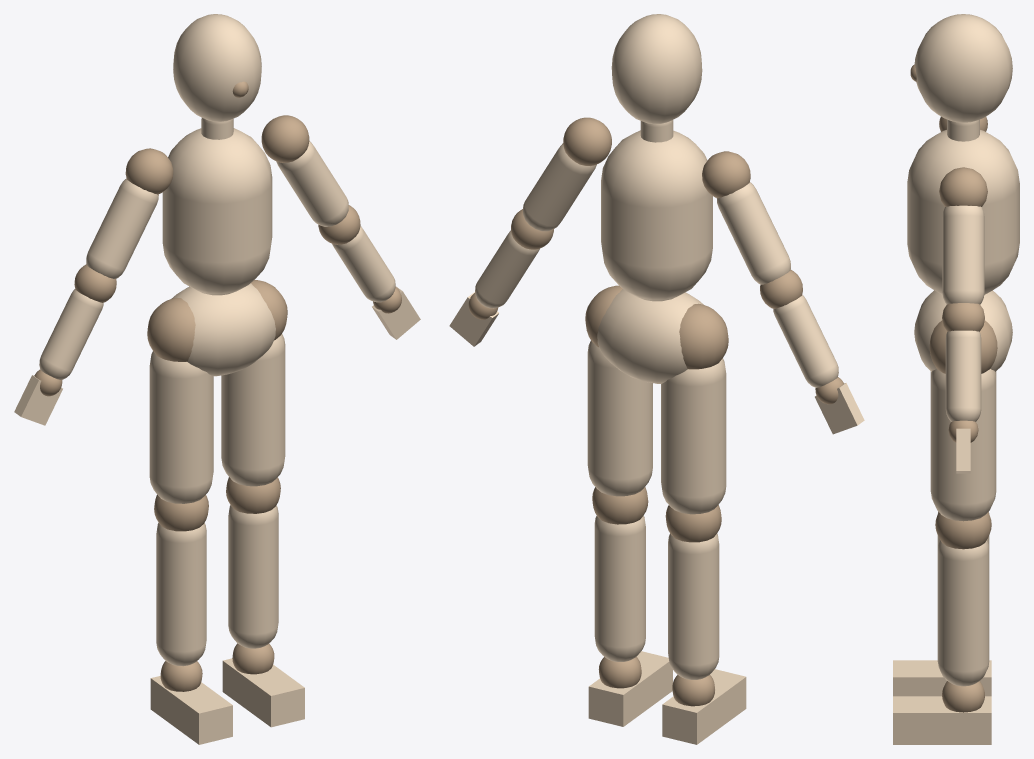
File: soldier_user.glb
The picture shows the model from 3 angles, left to right: view 1: azimuth 30°, elevation 25°; view 2: azimuth 150°, elevation 25°; view 3: azimuth 270°, elevation 25°; orthographic projection. The views are drawn at different scales.
Visible parts, largest first — view 1: ChestMesh, ThighMeshR, ThighMeshL, HeadMesh, CalfMeshL, CalfMeshR, PelvisMesh, UpperArmMeshR, FootMeshR, FootMeshL, UpperArmMeshL, ForearmMeshR (+13 smaller); view 2: ChestMesh, ThighMeshR, ThighMeshL, HeadMesh, CalfMeshL, CalfMeshR, PelvisMesh, UpperArmMeshR, FootMeshR, FootMeshL, UpperArmMeshL, ForearmMeshR (+13 smaller); view 3: ChestMesh, HeadMesh, CalfMeshL, ThighMeshL, FootMeshL, UpperArmMeshL, ForearmMeshL, PelvisMesh, FootMeshR, BallShoulderL, BallKneeL, BallHipL (+5 smaller).
Boxes of the visible parts, bbox=[...] form: ChestMesh: bbox=[162, 128, 272, 294]; ThighMeshR: bbox=[149, 351, 213, 503]; ThighMeshL: bbox=[221, 334, 285, 486]; HeadMesh: bbox=[173, 14, 261, 121]; CalfMeshL: bbox=[228, 505, 278, 648]; CalfMeshR: bbox=[156, 523, 206, 666]; PelvisMesh: bbox=[171, 283, 275, 376]; UpperArmMeshR: bbox=[86, 178, 158, 278]; FootMeshR: bbox=[150, 676, 232, 744]; FootMeshL: bbox=[222, 658, 304, 727]; UpperArmMeshL: bbox=[276, 140, 348, 226]; ForearmMeshR: bbox=[39, 289, 103, 379]; ChestMesh: bbox=[601, 130, 712, 300]; ThighMeshR: bbox=[661, 358, 726, 514]; ThighMeshL: bbox=[587, 340, 652, 496]; HeadMesh: bbox=[611, 14, 702, 124]; CalfMeshL: bbox=[594, 515, 645, 661]; CalfMeshR: bbox=[668, 533, 719, 679]; PelvisMesh: bbox=[597, 289, 703, 383]; UpperArmMeshR: bbox=[716, 182, 790, 284]; FootMeshR: bbox=[662, 669, 746, 744]; FootMeshL: bbox=[588, 651, 672, 726]; UpperArmMeshL: bbox=[523, 143, 596, 231]; ForearmMeshR: bbox=[773, 294, 838, 387]; ChestMesh: bbox=[907, 130, 1019, 294]; HeadMesh: bbox=[914, 14, 1012, 122]; CalfMeshL: bbox=[937, 540, 989, 686]; ThighMeshL: bbox=[930, 369, 996, 521]; FootMeshL: bbox=[893, 696, 991, 744]; UpperArmMeshL: bbox=[942, 205, 984, 304]; ForearmMeshL: bbox=[945, 330, 981, 421]; PelvisMesh: bbox=[914, 290, 1012, 371]; FootMeshR: bbox=[893, 660, 991, 696]; BallShoulderL: bbox=[939, 167, 987, 206]; BallKneeL: bbox=[935, 512, 991, 549]; BallHipL: bbox=[929, 320, 997, 373].
Bounding box in the file's own units: 1 × 1.65 × 0.27.
